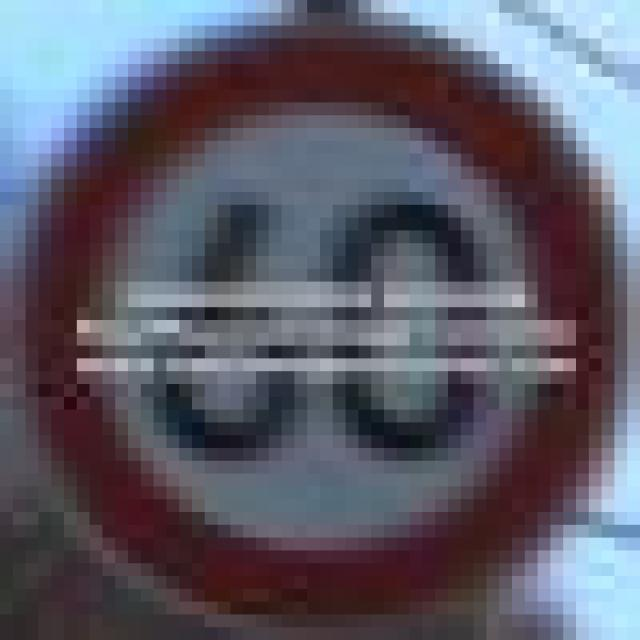speed_limit_40: (26, 26, 602, 576)
